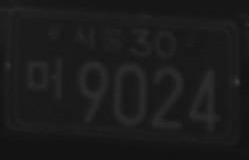0: (111, 61, 148, 129), (153, 27, 179, 61)
2: (149, 64, 184, 133)
3: (128, 25, 153, 57)
4: (187, 67, 223, 131)
9: (75, 58, 111, 124)
머: (25, 55, 65, 102)
서울_O: (71, 24, 127, 55)
